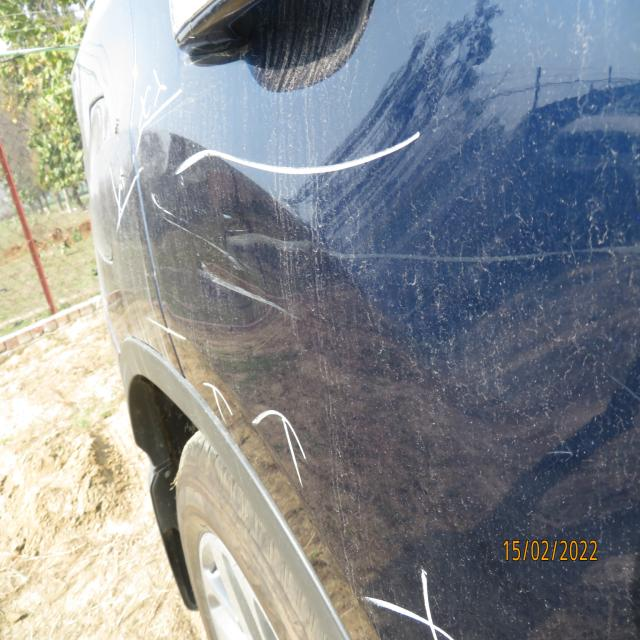damage: (136, 122, 363, 329)
